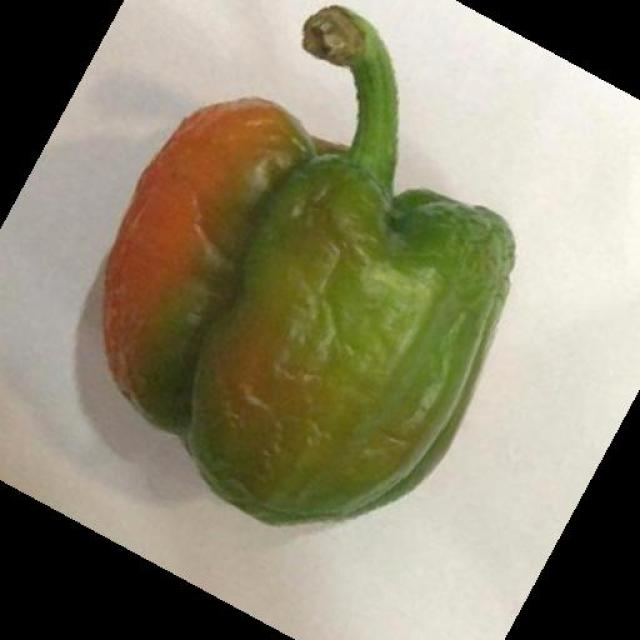Stale_Capsicum: (145, 66, 506, 490)
